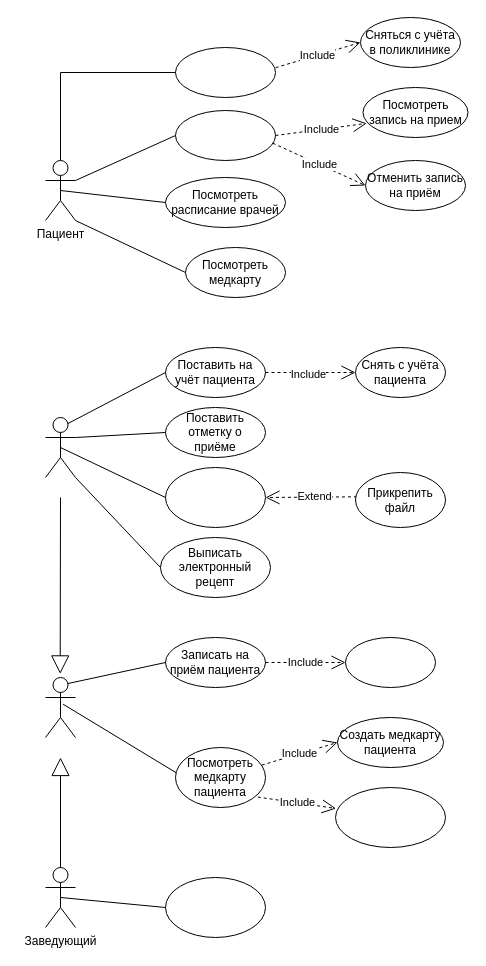
The diagram is 486 pixels wide and 966 high, and some of its shapes have lost their labels. The shapes that lost their labels are listed below. From the top down, each one's box as (x1, y1, x2, y2) in pixels, then its label:
(174, 46, 276, 98): Стать на учёт в поликлинику
(174, 110, 276, 160): Записаться на приём к врачу
(44, 416, 76, 478): Врач
(164, 466, 266, 528): Редактировать медкарту пациента
(344, 636, 436, 688): Посмотреть расписание
(44, 676, 76, 738): Администратор
(334, 786, 446, 848): Отправить медкарту пациента в архив
(164, 876, 266, 938): Составить расписание врачей
